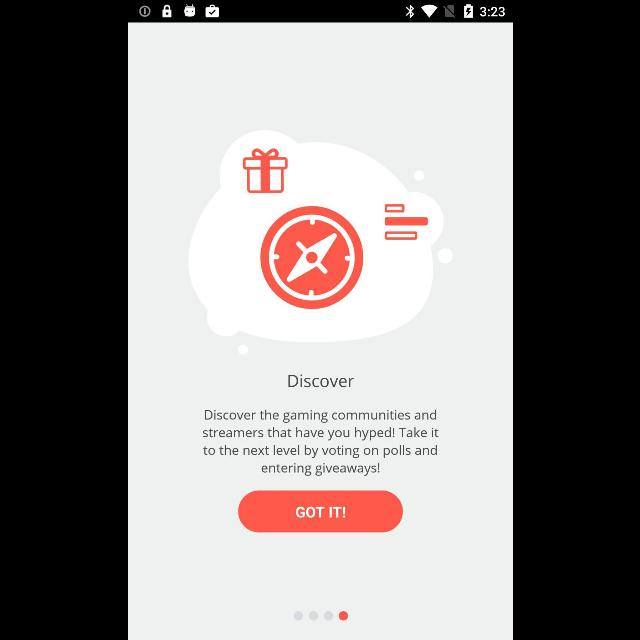image: (187, 129, 453, 355)
pageindicator: (293, 611, 347, 621)
text: (202, 409, 438, 476), (288, 374, 354, 388)
textbutton: (238, 491, 402, 533)
uppertaskbar: (128, 1, 512, 23)
